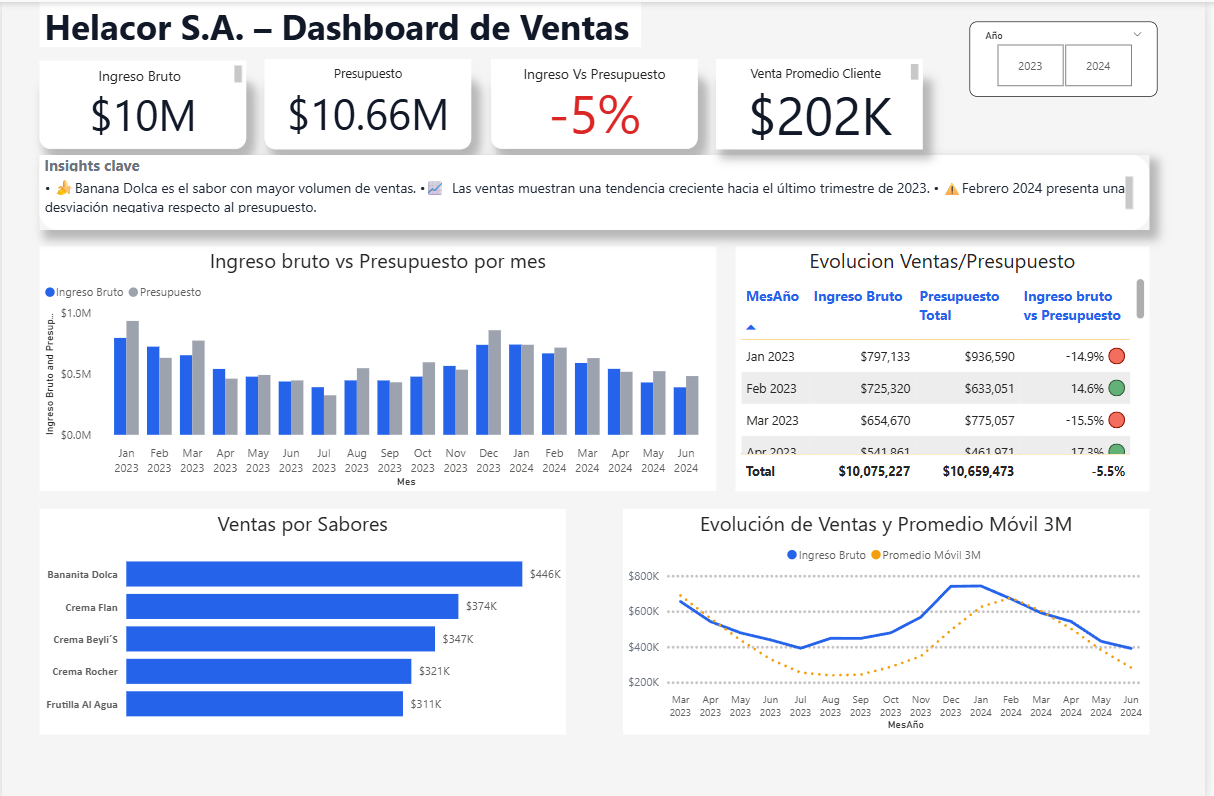

This screenshot's page, from the dashboard's own definition file:
{"tool":"powerbi","page":{"name":"Ventas vs Presupuesto","canvas":[1280,850],"ordinal":0},"visuals":[{"type":"clusteredColumnChart","title":"Ingreso bruto vs Presupuesto por mes","fields":{"Y":["Medidas.Ingreso Bruto","Sum(Presupuesto.Value)"],"Category":["Calendario.MesAño"]},"box":[40,260,720,260],"z":0},{"type":"textbox","title":"Helacor S.A. – Dashboard de Ventas\n","box":[39.9,0,639.9,47.9],"z":1000},{"type":"card","fields":{"Values":["Medidas.Ingreso bruto vs ppto con var y return"]},"box":[520.6,74.3,220,81.4],"z":1000,"group":"g3"},{"type":"card","fields":{"Values":["Medidas.Ingreso Bruto"]},"box":[39.9,79.5,220,76.8],"z":2000,"group":"g1"},{"type":"tableEx","title":"Evolucion Ventas/Presupuesto","fields":{"Values":["Calendario.MesAño","Medidas.Ingreso Bruto","Medidas.Presupuesto Total","Medidas.Ingreso bruto vs Ppto 2"]},"box":[780,260,440,260],"z":2000},{"type":"card","fields":{"Values":["Medidas.Presupuesto Total"]},"box":[279.3,77.6,220.2,78.8],"z":3000,"group":"g2"},{"type":"clusteredBarChart","title":"Ventas por Sabores ","fields":{"Category":["Productos.Sabor"],"Y":["Medidas.Ingreso Bruto"]},"box":[40,540,560,240],"z":3000},{"type":"lineChart","title":"Evolución de Ventas y Promedio Móvil 3M","fields":{"Category":["Calendario.MesAño"],"Y":["Medidas.Ingreso Bruto"],"Y2":["Medidas.Promedio Móvil 3M"]},"box":[660,540,560,240],"z":4000},{"type":"slicer","fields":{"Values":["Calendario.Año"]},"box":[1030,20,200,80],"z":5000},{"type":"group","id":"g1","title":"Group 1","box":[39.9,62.2,220.2,94.2],"z":6000},{"type":"card","fields":{"Values":["Medidas.Ventas por cliente"]},"box":[759.6,77.6,220.2,78.8],"z":6000,"group":"g5"},{"type":"group","id":"g2","title":"Group 2","box":[279.3,60.6,220.2,95.7],"z":7000},{"type":"group","id":"g3","title":"Group 3","box":[520.2,60.6,220.2,95.7],"z":8000},{"type":"group","id":"g4","title":"Group 4","box":[39.9,162.8,1180.9,79.8],"z":9000},{"type":"group","id":"g5","title":"Group 5","box":[759.6,60.6,220.2,95.7],"z":10000},{"type":"shape","box":[39.9,162.8,1180.9,79.8],"z":10000,"group":"g4"},{"type":"textbox","title":"Insights clave","box":[39.9,162.8,199.5,31.9],"z":11000,"group":"g4"},{"type":"textbox","box":[39.9,181,1168,48],"z":12000,"group":"g4"},{"type":"textbox","box":[40.1,62.2,220,29.2],"z":12001,"group":"g1"},{"type":"textbox","box":[279.3,60.6,220.2,27.9],"z":12003,"group":"g2"},{"type":"textbox","box":[520.2,60.6,220.2,31.9],"z":12005,"group":"g3"},{"type":"textbox","box":[759.6,60.6,220.2,27.9],"z":12008,"group":"g5"}]}

Visuals, with their boxes in screenshot pixels (x1, y1, x2, y2), scaled from the page's 1280x850 canvas onto the 1214x796 screenshot:
"Ingreso bruto vs Presupuesto por mes" clusteredColumnChart: rect(38, 243, 721, 487)
"Helacor S.A. – Dashboard de Ventas
" textbox: rect(38, 0, 645, 45)
card - Medidas.Ingreso bruto vs ppto con var y return: rect(494, 70, 702, 146)
card - Medidas.Ingreso Bruto: rect(38, 74, 246, 146)
"Evolucion Ventas/Presupuesto" tableEx: rect(740, 243, 1157, 487)
card - Medidas.Presupuesto Total: rect(265, 73, 474, 146)
"Ventas por Sabores " clusteredBarChart: rect(38, 506, 569, 730)
"Evolución de Ventas y Promedio Móvil 3M" lineChart: rect(626, 506, 1157, 730)
slicer - Calendario.Año: rect(977, 19, 1167, 94)
"Group 1" group: rect(38, 58, 247, 146)
card - Medidas.Ventas por cliente: rect(720, 73, 929, 146)
"Group 2" group: rect(265, 57, 474, 146)
"Group 3" group: rect(493, 57, 702, 146)
"Group 4" group: rect(38, 152, 1158, 227)
"Group 5" group: rect(720, 57, 929, 146)
shape: rect(38, 152, 1158, 227)
"Insights clave" textbox: rect(38, 152, 227, 182)
textbox: rect(38, 170, 1146, 214)
textbox: rect(38, 58, 247, 86)
textbox: rect(265, 57, 474, 83)
textbox: rect(493, 57, 702, 87)
textbox: rect(720, 57, 929, 83)
